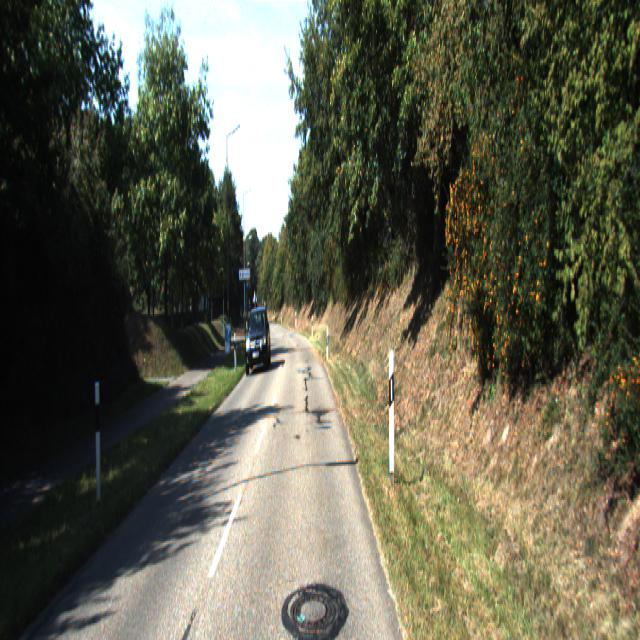Car: (245, 306, 272, 376)
